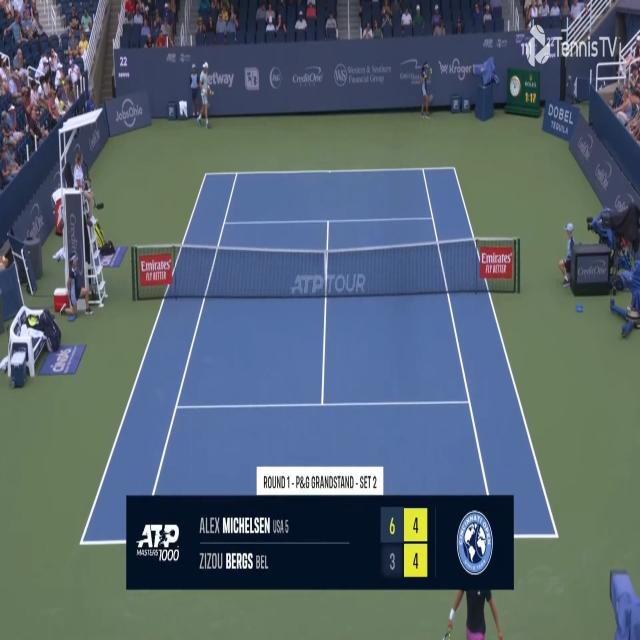tennis-player: (442, 566, 502, 640), (194, 58, 216, 134)
